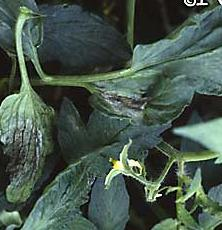Tomato leaf late blight: (81, 7, 222, 128), (0, 72, 59, 208), (14, 160, 97, 230)
